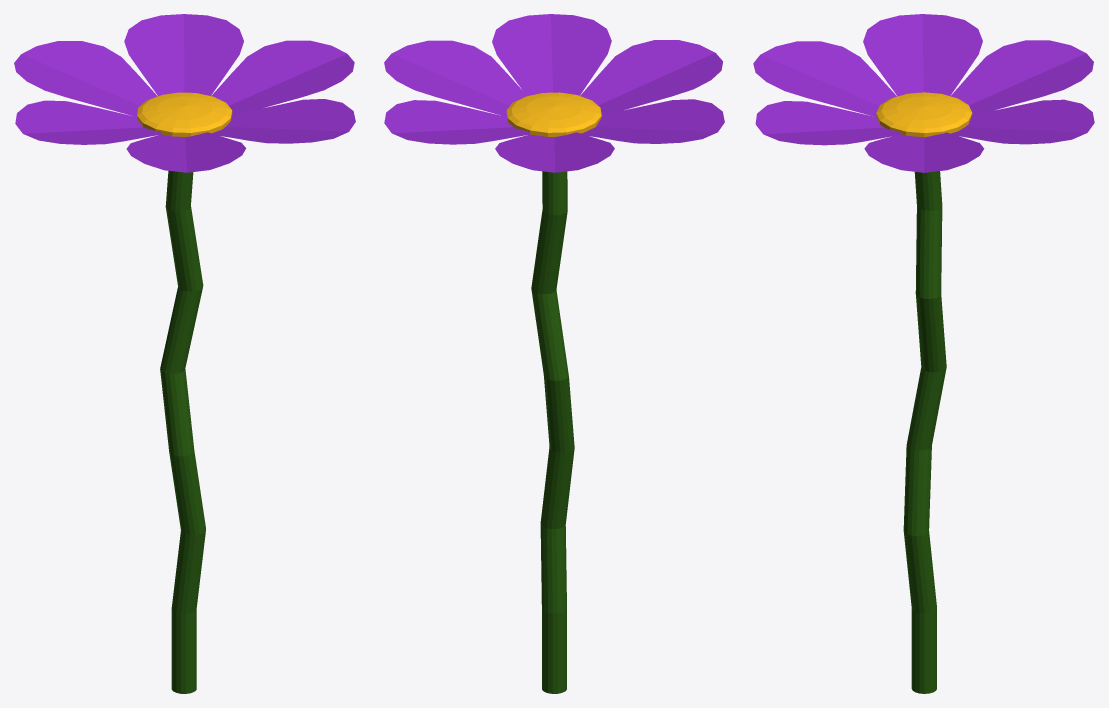
The model's file is purplelower.fbx.
The picture shows the model from 3 angles, left to right: view 1: azimuth 30°, elevation 25°; view 2: azimuth 150°, elevation 25°; view 3: azimuth 270°, elevation 25°; orthographic projection.
Parts seen in each view (by area): view 1: Circle, Circle.001; view 2: Circle, Circle.001; view 3: Circle, Circle.001.
Boxes of the visible parts, x1,y1,x2,y2 form: Circle: (14,14,355,172); Circle.001: (137,92,232,693); Circle: (384,14,724,172); Circle.001: (506,92,601,693); Circle: (753,14,1094,172); Circle.001: (876,92,972,693).
Size of the model in its own units: 31.33 by 54.86 by 28.46.
